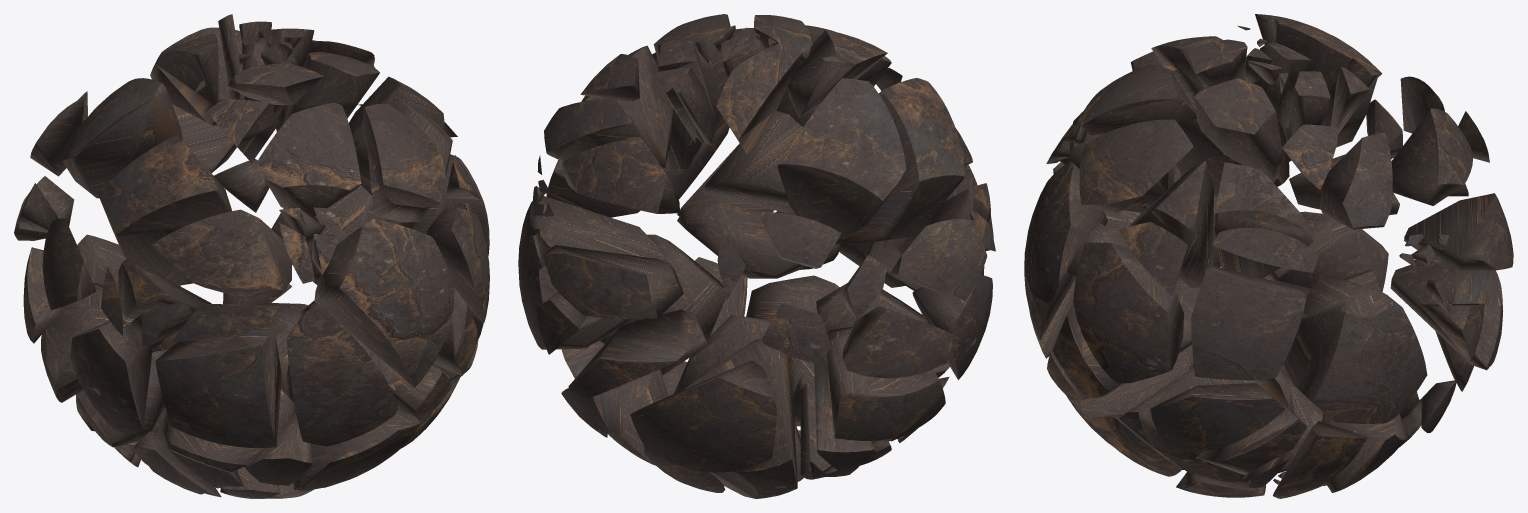
File: planet.fbx
3 views of the same model, side by side, from view 1: azimuth 30°, elevation 25°; view 2: azimuth 150°, elevation 25°; view 3: azimuth 270°, elevation 25° (orthographic).
Visible parts, largest first — view 1: Sphere_cell.001; view 2: Sphere_cell.001; view 3: Sphere_cell.001.
Part boxes in pixels (<box>): Sphere_cell.001: <box>14,14,489,498</box>; Sphere_cell.001: <box>518,14,995,498</box>; Sphere_cell.001: <box>1024,14,1513,498</box>.
Size of the model in its own units: 2701 by 2725 by 2753.
